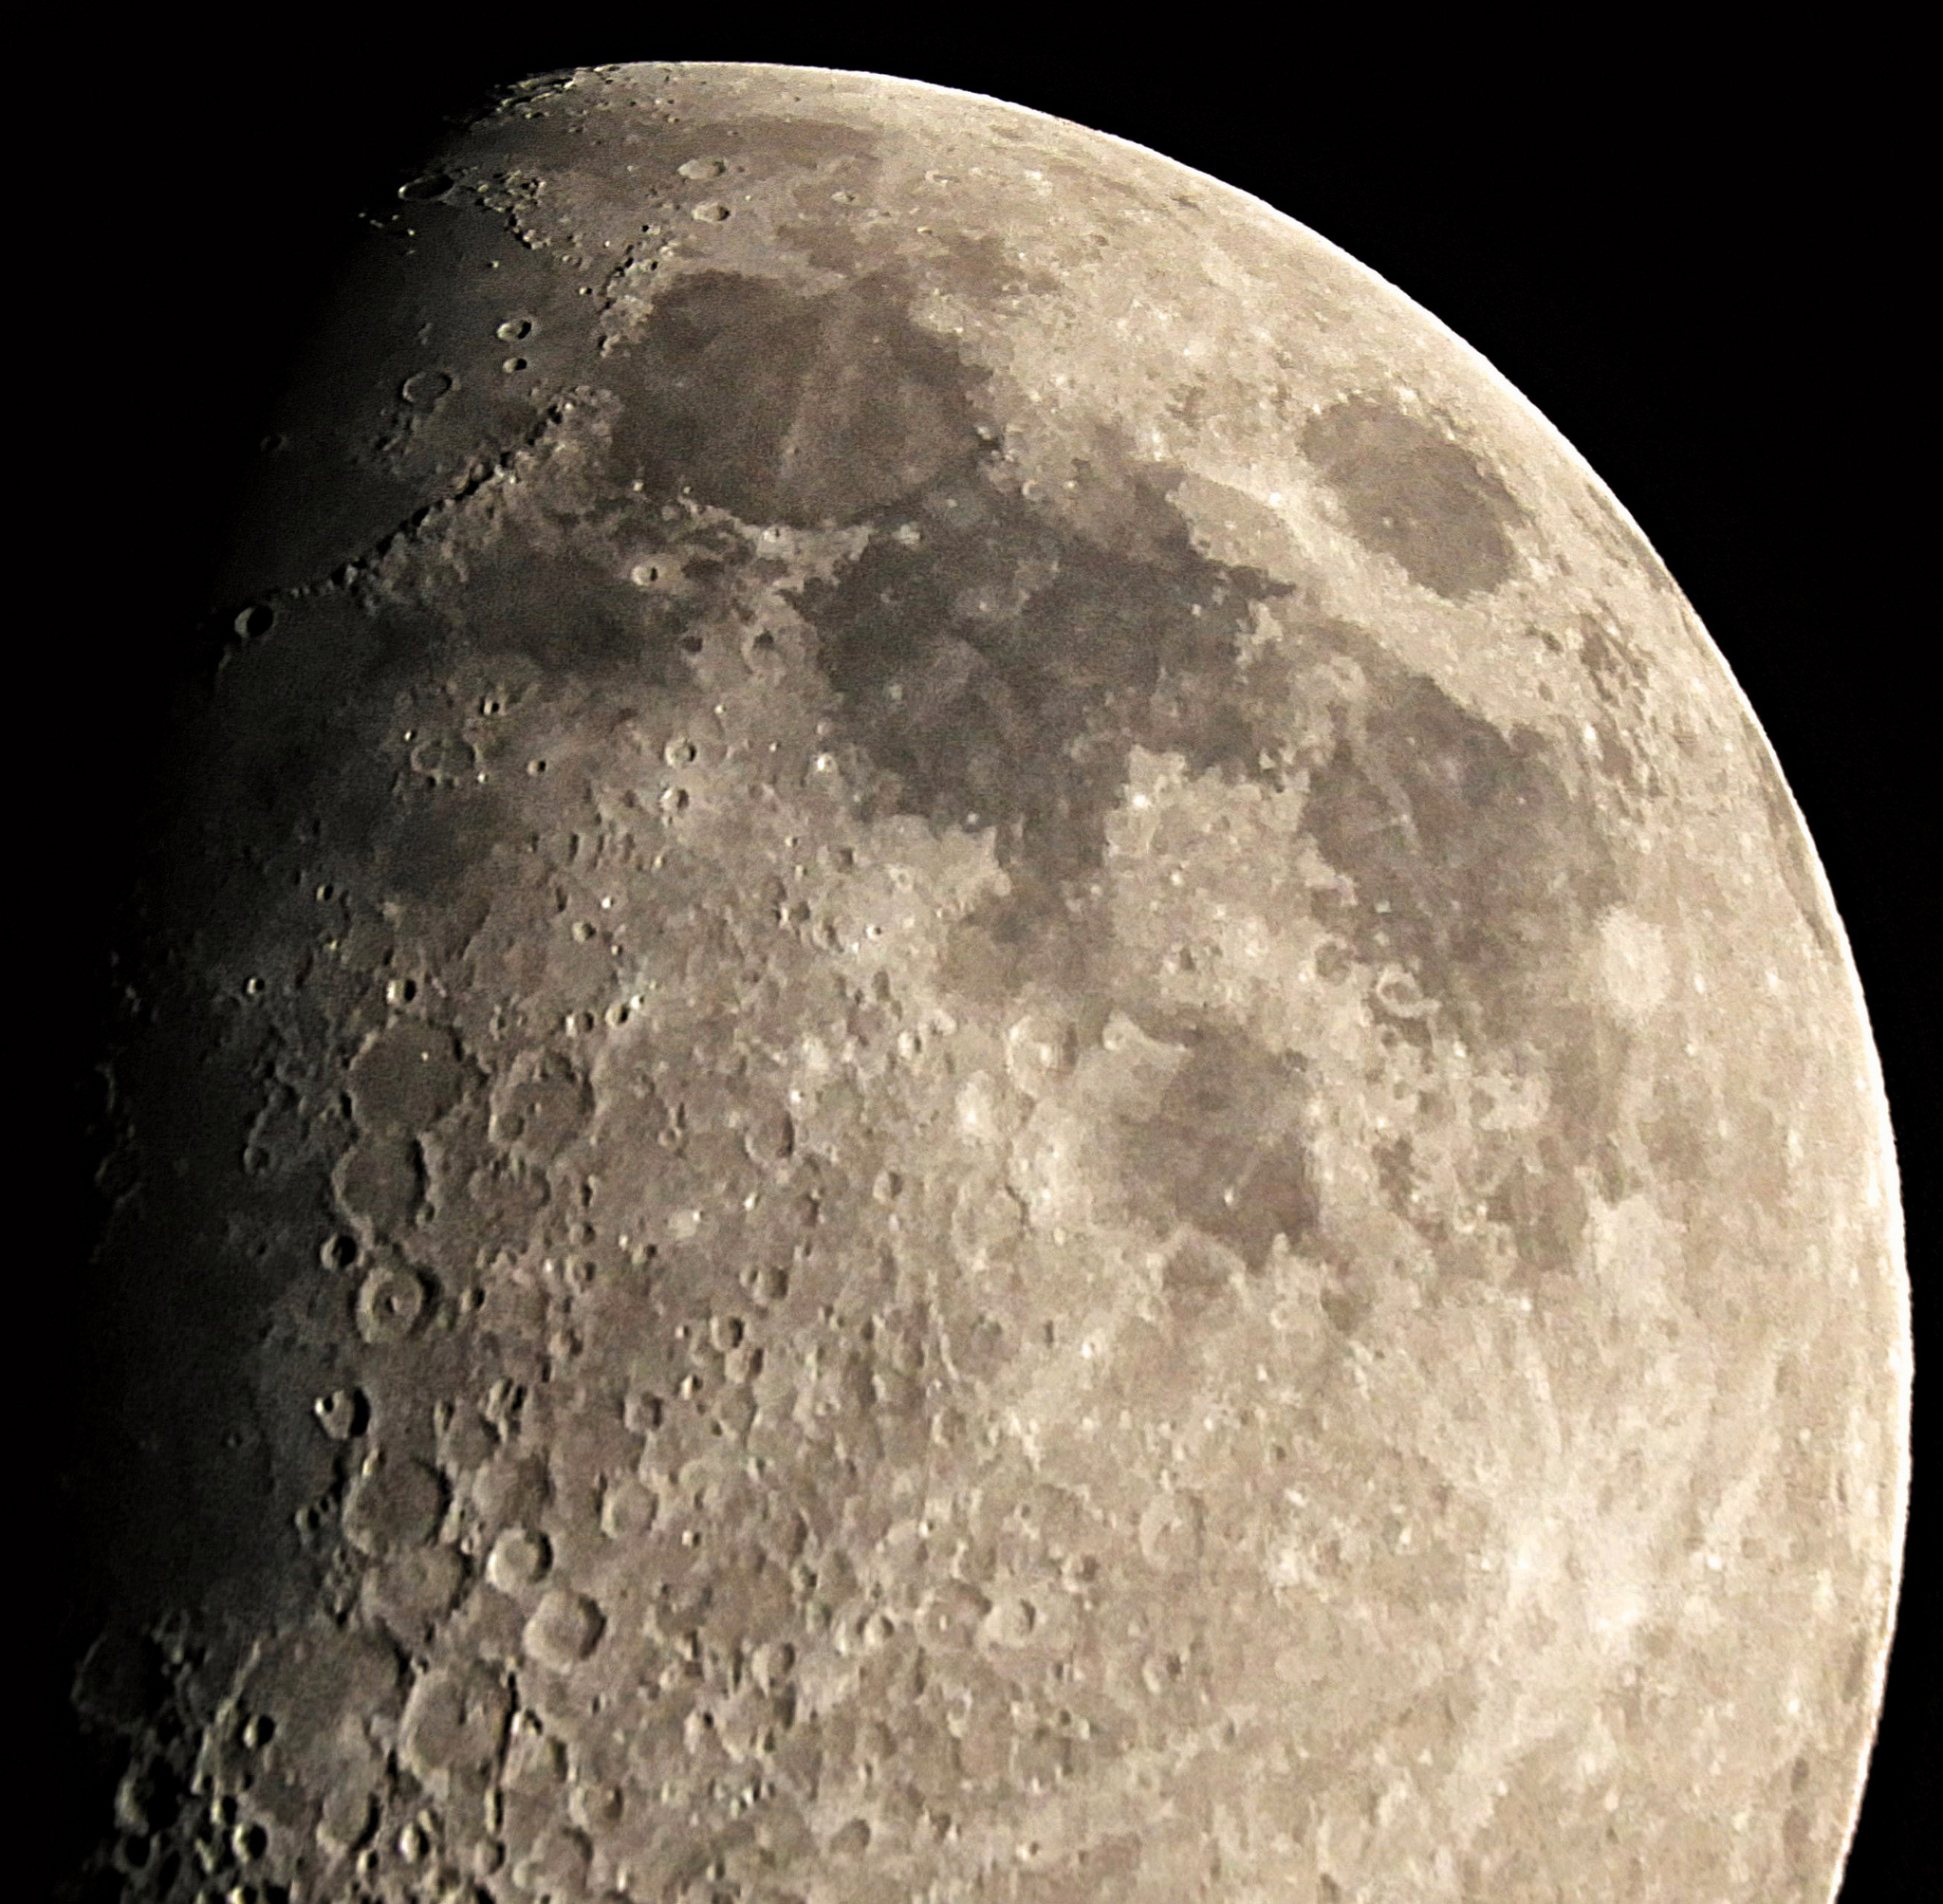crater: (1451, 1309, 1786, 1848), (314, 1126, 467, 1241), (303, 1254, 448, 1350), (504, 1585, 628, 1686), (991, 990, 1087, 1119), (1125, 1472, 1224, 1592), (572, 1459, 691, 1555), (1108, 1634, 1226, 1723), (220, 570, 300, 677), (228, 1691, 314, 1777), (661, 134, 792, 190), (375, 357, 467, 434), (1048, 1533, 1127, 1620), (678, 188, 780, 248), (623, 769, 713, 832), (849, 1153, 928, 1222), (481, 288, 563, 354), (1148, 579, 1214, 649), (647, 727, 727, 778), (623, 553, 699, 605)
